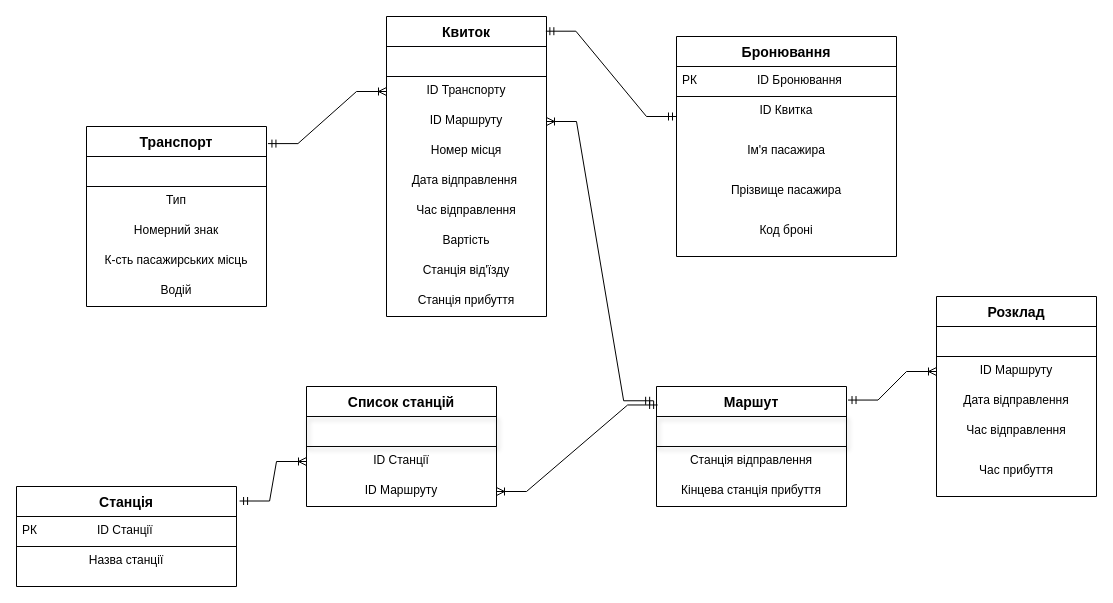
Some shapes in this 1113 by 603 pixel diagram are drawn without their labels. Here are the shapes that lost their labels. From the top down, the centre of each, then its label:
At pixel 466 61: "РК ID Квиток".
At pixel 176 171: "РК ID Транспорту".
At pixel 1016 341: "РК ID Розкладу".
At pixel 402 433: "РК ID Список станцій".
At pixel 752 433: "РК ID Маршруту".
